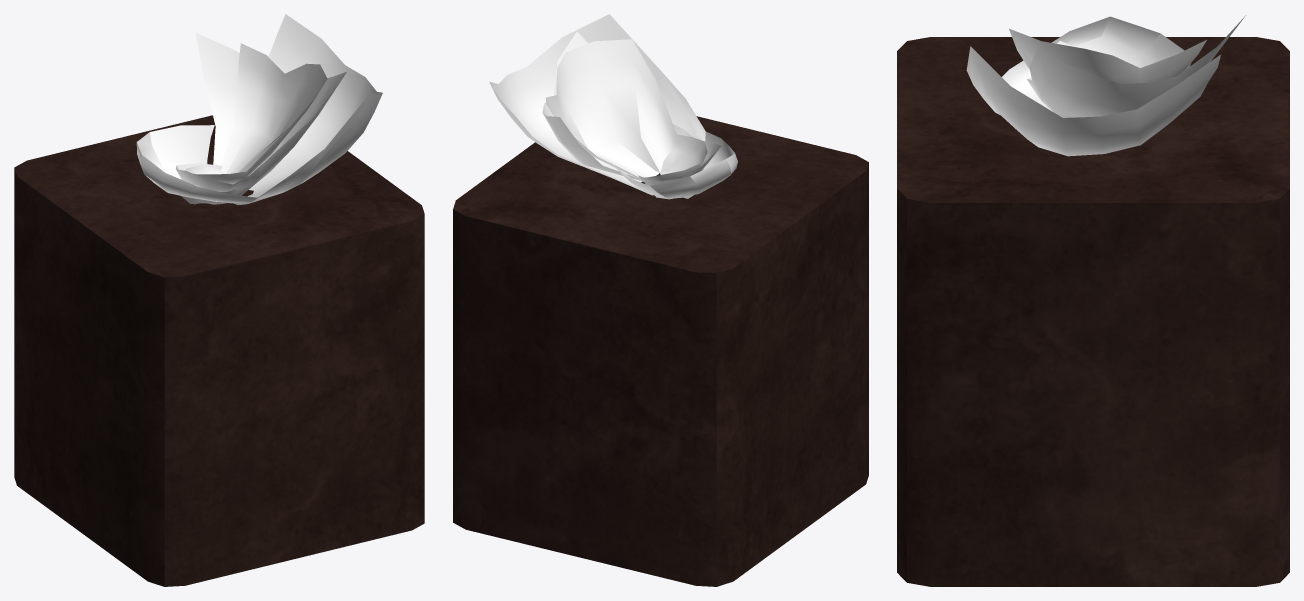
File: BtR_Tissue01.fbx
3 renders of one model, left to right at view 1: azimuth 30°, elevation 25°; view 2: azimuth 150°, elevation 25°; view 3: azimuth 270°, elevation 25°, orthographic. The views are drawn at different scales.
Visible parts, largest first — view 1: BtR_Tissue01; view 2: BtR_Tissue01; view 3: BtR_Tissue01.
Part boxes in pixels (bbox=[...]): BtR_Tissue01: bbox=[14, 14, 424, 586]; BtR_Tissue01: bbox=[453, 14, 868, 586]; BtR_Tissue01: bbox=[897, 15, 1289, 586].
Bounding box in the file's own units: 0.1254 × 0.1805 × 0.1202.
